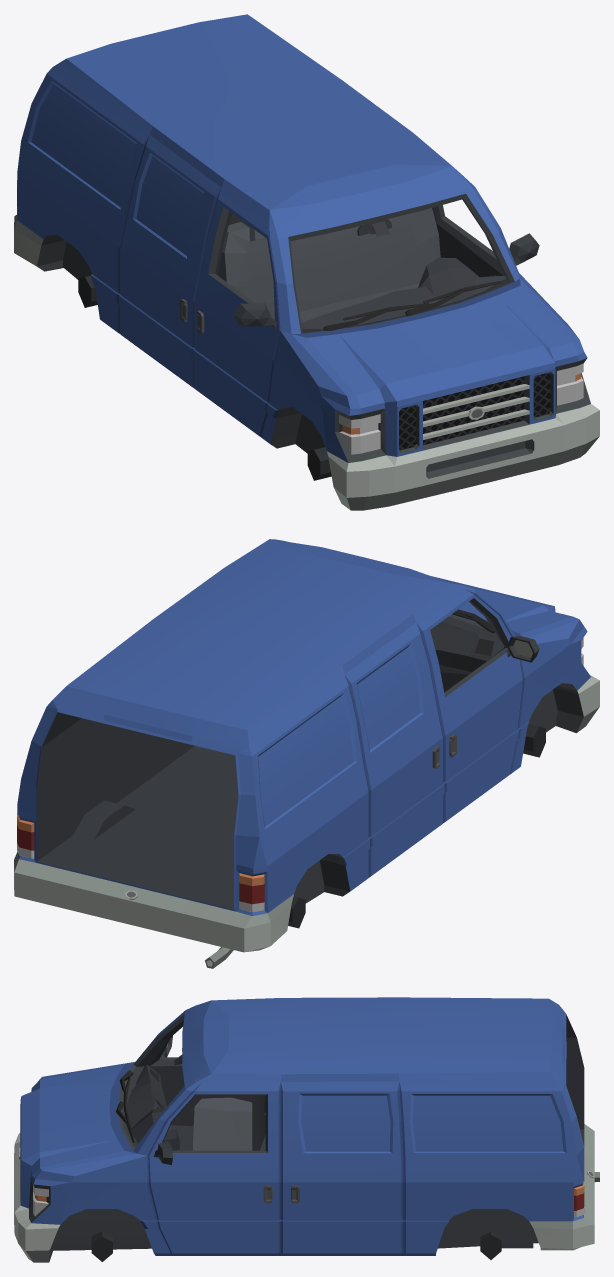
File: SM_Veh_Car_Van_01.obj
The picture shows the model from 3 angles, top to bottom: view 1: azimuth 30°, elevation 25°; view 2: azimuth 150°, elevation 25°; view 3: azimuth 270°, elevation 25°; orthographic projection. The views are drawn at different scales.
Parts seen in each view (by area): view 1: SM_Veh_Car_Van_01_0; view 2: SM_Veh_Car_Van_01_0; view 3: SM_Veh_Car_Van_01_0.
Part boxes in pixels (left/top/right/bottom): SM_Veh_Car_Van_01_0: left=14, top=14, right=599, bottom=510; SM_Veh_Car_Van_01_0: left=14, top=539, right=599, bottom=968; SM_Veh_Car_Van_01_0: left=14, top=997, right=599, bottom=1262.
Size of the model in its own units: 2.47 by 1.78 by 5.02.
1 material, 1 textured.
